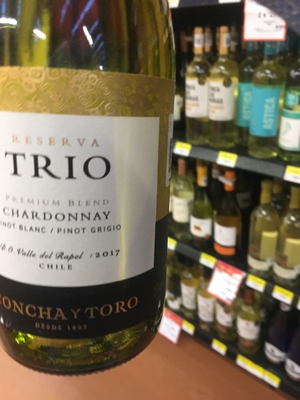trio chardonnay: (2, 27, 178, 374)
